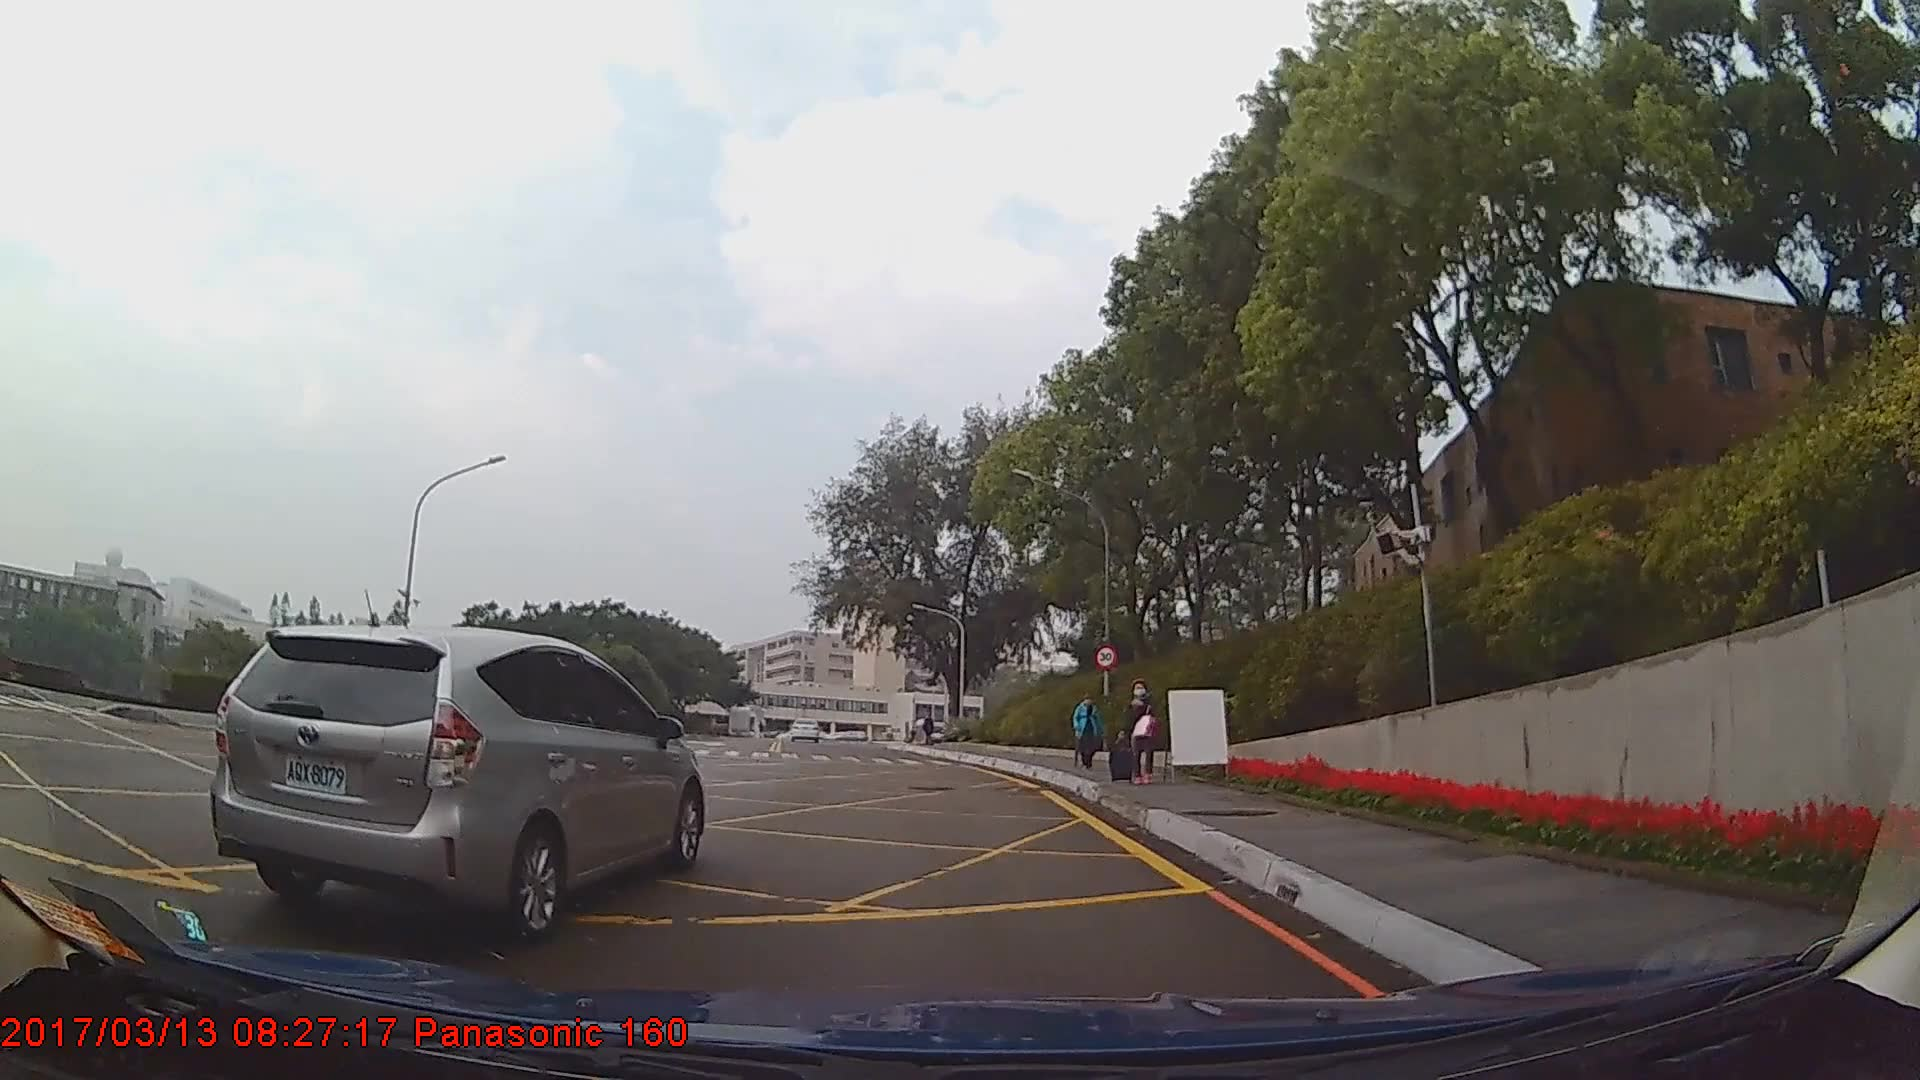pedestrian: (1116, 680, 1168, 786), (1075, 691, 1105, 770)
vehicle: (207, 621, 705, 944), (788, 713, 822, 740)
